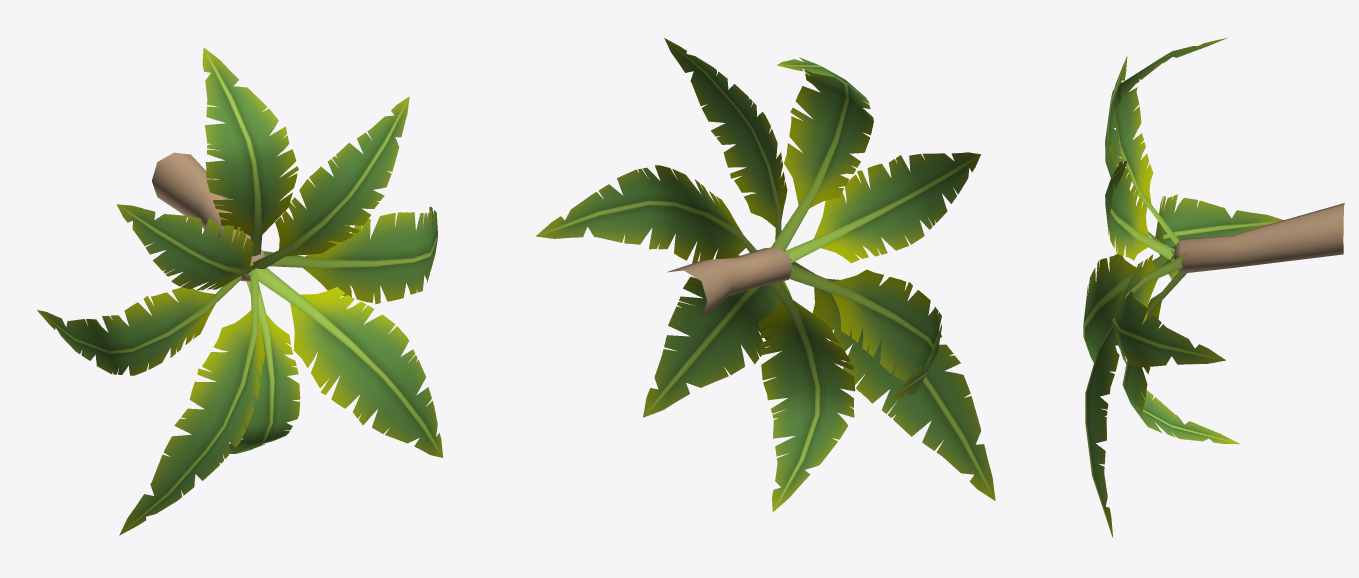
The model's file is palm_tree_05.glb.
3 views of the same model, side by side, from view 1: azimuth 30°, elevation 25°; view 2: azimuth 150°, elevation 25°; view 3: azimuth 270°, elevation 25° (orthographic). The views are drawn at different scales.
Visible parts, largest first — view 1: PalmTree_5; view 2: PalmTree_5; view 3: PalmTree_5.
Part boxes in pixels (x1=…): PalmTree_5: x1=37, y1=47, x2=442, y2=535; PalmTree_5: x1=535, y1=38, x2=995, y2=511; PalmTree_5: x1=1083, y1=37, x2=1344, y2=537.
Size of the model in its own units: 3.49 by 3.62 by 1.8.
Materials: 2 (1 with a texture image).
